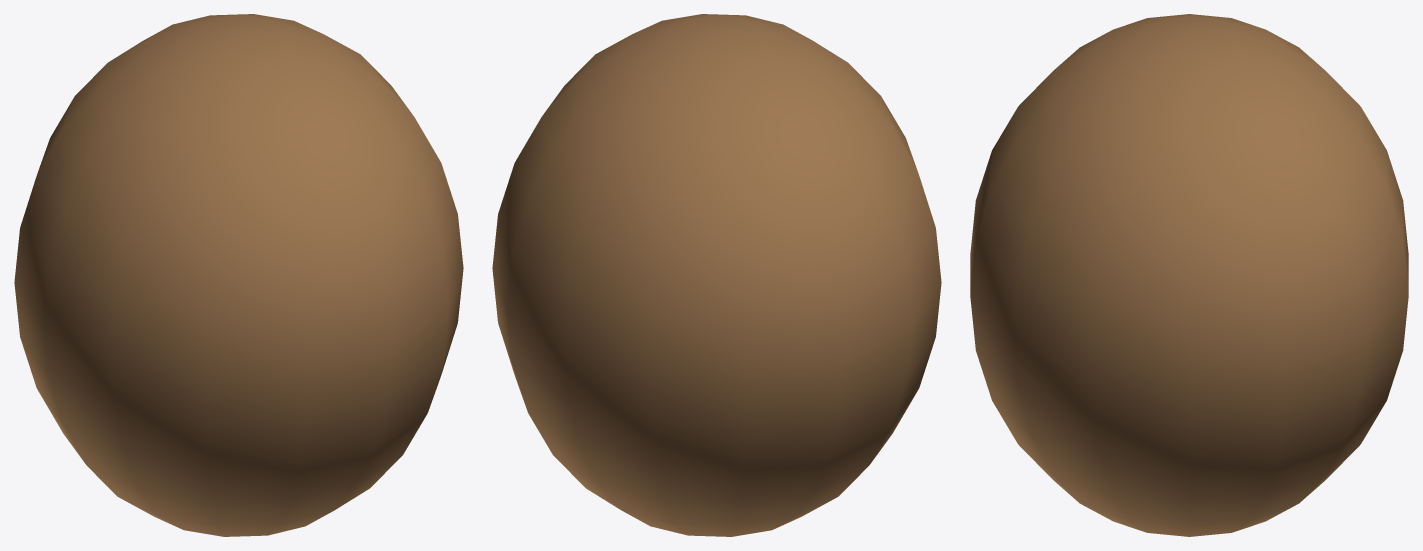
The model's file is Esfingeolito_stage3.obj.
The picture shows the model from 3 angles, left to right: view 1: azimuth 30°, elevation 25°; view 2: azimuth 150°, elevation 25°; view 3: azimuth 270°, elevation 25°; orthographic projection.
Size of the model in its own units: 2.6 by 3.12 by 2.53.
